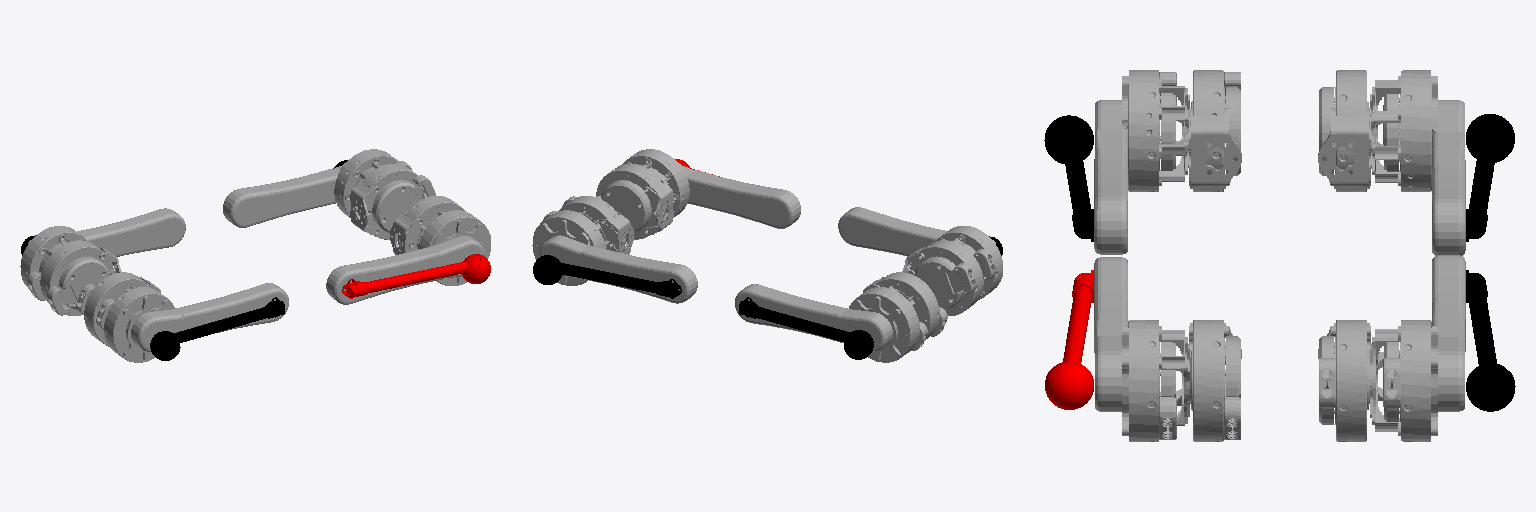
URDF robot description (bare_metal_xacro):
<?xml version="1.0" ?>
<!-- =================================================================================== -->
<!-- |    This document was autogenerated by xacro from bare_metal.xacro               | -->
<!-- |    EDITING THIS FILE BY HAND IS NOT RECOMMENDED                                 | -->
<!-- =================================================================================== -->
<robot name="bare_metal_xacro">
  <mujoco>
    <compiler balanceinertia="false" discardvisual="false" meshdir="./../../hb40_commons/urdf/meshes/"/>
  </mujoco>
  <material name="silver">
    <color rgba="0.700 0.700 0.700 1.000"/>
  </material>
  <material name="black">
    <color rgba="0 0 0 1.000"/>
  </material>
  <material name="red">
    <color rgba="1.0 0 0 1.000"/>
  </material>
  <!--
  LEG 1 LEFT FRONT(LF)      LEG 0 RIGHT FRONT (RF)

                    front
              \    /O____O\    /
               \  /|      |\  /
                \/ |      | \/
                   |      |
               \   |      |   /
                \  /O~~~~O\  /
                 \/  back  \/
  LEG 2 LEFT READ (LR)      LEG 3 RIGHT READ (RR)
  -->
  <!--
  ##########################################################
  ###########                               ################
  ###########          XACRO LINKS          ################
  ###########                               ################
  ##########################################################
  -->
  <!-- 
  ###########        XACRO LEG LINKS        ################
  -->
  <!--
  ##########################################################
  ###########                               ################
  ###########         XACRO JOINTS          ################
  ###########                               ################
  ##########################################################
  -->
  <!-- 
  ###########       XACRO LEG JOINTS        ################
  -->
  <!-- NOTE: If any translation rotaion of joints is changed here,
  It must be also changed in robot_state_publisher.cpp -->
  <!--
  ##########################################################
  ###########             BODY              ################
  ##########################################################
  -->
  <link name="base_link">
  </link>
  <link name="base">
    <inertial>
      <origin rpy="0 0 0" xyz="0 0 -0.0078"/>
      <mass value="4.695"/>
      <inertia ixx="0.0159" ixy="0" ixz="0" iyy="0.07546" iyz="0" izz="0.08249"/>
    </inertial>
    <visual>
      <origin rpy="0 0 0" xyz="0 0 0"/>
      <geometry>
        <mesh filename="package://hb40_commons/meshes/Base.stl" scale="0.001 0.001 0.001"/>
      </geometry>
      <material name="silver"/>
    </visual>
    <collision>
      <origin rpy="0 0 0" xyz="0 0 0"/>
      <geometry>
        <mesh filename="package://hb40_commons/meshes/Base.stl" scale="0.001 0.001 0.001"/>
      </geometry>
      <material name="silver"/>
    </collision>
  </link>
  <joint name="root_j0" type="fixed">
    <parent link="base_link"/>
    <child link="base"/>
    <origin rpy="0 0 0" xyz="0 0 0"/>
    <axis xyz="0 0 0"/>
  </joint>
  <!--
  ##########################################################
  ###########         LEGS LINKS 0-4        ################
  ##########################################################
  -->
  <link name="fr_l0">
    <inertial>
      <origin rpy="0 0 0" xyz="0.0506 -0.0067 -0.000192"/>
      <mass value="0.499"/>
      <inertia ixx="0.0003493" ixy="0" ixz="0" iyy="0.0006636" iyz="0" izz="0.000404"/>
    </inertial>
    <visual>
      <origin rpy="3.14159 0 0" xyz="0 0 0"/>
      <geometry>
        <mesh filename="package://hb40_commons/meshes/L0.stl" scale="0.001 0.001 0.001"/>
      </geometry>
      <material name="silver"/>
    </visual>
  </link>
  <link name="fr_l1">
    <inertial>
      <origin rpy="0 0 0" xyz="0.0442 0.0321 0.0013"/>
      <mass value="0.779"/>
      <inertia ixx="0.003755" ixy="0" ixz="0" iyy="0.0006211" iyz="0" izz="0.003607"/>
    </inertial>
    <visual>
      <origin rpy="0 0 0" xyz="0 0 0"/>
      <geometry>
        <mesh filename="package://hb40_commons/meshes/L1.stl" scale="0.001 0.001 0.001"/>
      </geometry>
      <material name="silver"/>
    </visual>
  </link>
  <link name="fr_l2">
    <inertial>
      <origin rpy="0 0 0" xyz="0.0183 0.1348 0.0005"/>
      <mass value="0.060"/>
      <inertia ixx="0.000277" ixy="0" ixz="0" iyy="0.0000885" iyz="0" izz="0.0002787"/>
    </inertial>
    <visual>
      <origin rpy="0 0 0" xyz="0 0 0"/>
      <geometry>
        <mesh filename="package://hb40_commons/meshes/L2.stl" scale="0.001 0.001 0.001"/>
      </geometry>
      <material name="red"/>
    </visual>
    <collision>
      <origin rpy="0 0 0" xyz="0 0 0"/>
      <geometry>
        <mesh filename="package://hb40_commons/meshes/L2.stl" scale="0.001 0.001 0.001"/>
      </geometry>
      <material name="red"/>
    </collision>
  </link>
  <link name="fl_l0">
    <inertial>
      <origin rpy="0 0 0" xyz="0.0506 -0.0067 -0.000192"/>
      <mass value="0.499"/>
      <inertia ixx="0.0003493" ixy="0" ixz="0" iyy="0.0006636" iyz="0" izz="0.000404"/>
    </inertial>
    <visual>
      <origin rpy="3.14159 0 0" xyz="0 0 0"/>
      <geometry>
        <mesh filename="package://hb40_commons/meshes/L0.stl" scale="0.001 0.001 0.001"/>
      </geometry>
      <material name="silver"/>
    </visual>
  </link>
  <link name="fl_l1">
    <inertial>
      <origin rpy="0 0 0" xyz="0.0442 0.0321 0.0013"/>
      <mass value="0.779"/>
      <inertia ixx="0.003755" ixy="0" ixz="0" iyy="0.0006211" iyz="0" izz="0.003607"/>
    </inertial>
    <visual>
      <origin rpy="0 0 0" xyz="0 0 0"/>
      <geometry>
        <mesh filename="package://hb40_commons/meshes/L1.stl" scale="0.001 0.001 0.001"/>
      </geometry>
      <material name="silver"/>
    </visual>
  </link>
  <link name="fl_l2">
    <inertial>
      <origin rpy="0 0 0" xyz="0.0183 0.1348 0.0005"/>
      <mass value="0.060"/>
      <inertia ixx="0.000277" ixy="0" ixz="0" iyy="0.0000885" iyz="0" izz="0.0002787"/>
    </inertial>
    <visual>
      <origin rpy="0 0 0" xyz="0 0 0"/>
      <geometry>
        <mesh filename="package://hb40_commons/meshes/L2b.stl" scale="0.001 0.001 0.001"/>
      </geometry>
      <material name="black"/>
    </visual>
    <collision>
      <origin rpy="0 0 0" xyz="0 0 0"/>
      <geometry>
        <mesh filename="package://hb40_commons/meshes/L2b.stl" scale="0.001 0.001 0.001"/>
      </geometry>
      <material name="black"/>
    </collision>
  </link>
  <link name="rl_l0">
    <inertial>
      <origin rpy="0 0 0" xyz="0.0506 -0.0067 -0.000192"/>
      <mass value="0.499"/>
      <inertia ixx="0.0003493" ixy="0" ixz="0" iyy="0.0006636" iyz="0" izz="0.000404"/>
    </inertial>
    <visual>
      <origin rpy="3.14159 0 0" xyz="0 0 0"/>
      <geometry>
        <mesh filename="package://hb40_commons/meshes/L0.stl" scale="0.001 0.001 0.001"/>
      </geometry>
      <material name="silver"/>
    </visual>
  </link>
  <link name="rl_l1">
    <inertial>
      <origin rpy="0 0 0" xyz="0.0442 0.0321 0.0013"/>
      <mass value="0.779"/>
      <inertia ixx="0.003755" ixy="0" ixz="0" iyy="0.0006211" iyz="0" izz="0.003607"/>
    </inertial>
    <visual>
      <origin rpy="0 0 0" xyz="0 0 0"/>
      <geometry>
        <mesh filename="package://hb40_commons/meshes/L1.stl" scale="0.001 0.001 0.001"/>
      </geometry>
      <material name="silver"/>
    </visual>
  </link>
  <link name="rl_l2">
    <inertial>
      <origin rpy="0 0 0" xyz="0.0183 0.1348 0.0005"/>
      <mass value="0.060"/>
      <inertia ixx="0.000277" ixy="0" ixz="0" iyy="0.0000885" iyz="0" izz="0.0002787"/>
    </inertial>
    <visual>
      <origin rpy="0 0 0" xyz="0 0 0"/>
      <geometry>
        <mesh filename="package://hb40_commons/meshes/L2.stl" scale="0.001 0.001 0.001"/>
      </geometry>
      <material name="black"/>
    </visual>
    <collision>
      <origin rpy="0 0 0" xyz="0 0 0"/>
      <geometry>
        <mesh filename="package://hb40_commons/meshes/L2.stl" scale="0.001 0.001 0.001"/>
      </geometry>
      <material name="black"/>
    </collision>
  </link>
  <link name="rr_l0">
    <inertial>
      <origin rpy="0 0 0" xyz="0.0506 -0.0067 -0.000192"/>
      <mass value="0.499"/>
      <inertia ixx="0.0003493" ixy="0" ixz="0" iyy="0.0006636" iyz="0" izz="0.000404"/>
    </inertial>
    <visual>
      <origin rpy="3.14159 0 0" xyz="0 0 0"/>
      <geometry>
        <mesh filename="package://hb40_commons/meshes/L0.stl" scale="0.001 0.001 0.001"/>
      </geometry>
      <material name="silver"/>
    </visual>
  </link>
  <link name="rr_l1">
    <inertial>
      <origin rpy="0 0 0" xyz="0.0442 0.0321 0.0013"/>
      <mass value="0.779"/>
      <inertia ixx="0.003755" ixy="0" ixz="0" iyy="0.0006211" iyz="0" izz="0.003607"/>
    </inertial>
    <visual>
      <origin rpy="0 0 0" xyz="0 0 0"/>
      <geometry>
        <mesh filename="package://hb40_commons/meshes/L1.stl" scale="0.001 0.001 0.001"/>
      </geometry>
      <material name="silver"/>
    </visual>
  </link>
  <link name="rr_l2">
    <inertial>
      <origin rpy="0 0 0" xyz="0.0183 0.1348 0.0005"/>
      <mass value="0.060"/>
      <inertia ixx="0.000277" ixy="0" ixz="0" iyy="0.0000885" iyz="0" izz="0.0002787"/>
    </inertial>
    <visual>
      <origin rpy="0 0 0" xyz="0 0 0"/>
      <geometry>
        <mesh filename="package://hb40_commons/meshes/L2b.stl" scale="0.001 0.001 0.001"/>
      </geometry>
      <material name="black"/>
    </visual>
    <collision>
      <origin rpy="0 0 0" xyz="0 0 0"/>
      <geometry>
        <mesh filename="package://hb40_commons/meshes/L2b.stl" scale="0.001 0.001 0.001"/>
      </geometry>
      <material name="black"/>
    </collision>
  </link>
  <!--
  ##########################################################
  ###########                               ################
  ###########             JOINTS             ###############
  ###########                               ################
  ##########################################################
  -->
  <!--
  ##########################################################
  ###########        LEGS JOINTS 0-4        ################
  ##########################################################
  -->
  <joint armature="0.01" name="fr_j0" type="continuous">
    <parent link="base"/>
    <child link="fr_l0"/>
    <origin rpy="0 0 0" xyz="0.185 -0.05 0"/>
    <axis xyz="1.0 0 0"/>
    <limit effort="10.0" lower="-10" upper="10.0" velocity="25.0"/>
  </joint>
  <joint name="fr_j1" type="continuous">
    <parent link="fr_l0"/>
    <child link="fr_l1"/>
    <origin rpy="3.14159 0 -1.57" xyz="0.0525 -0.0222 0"/>
    <!-- TODO: xyz to verification -->
    <axis xyz="1.0 0 0"/>
    <limit effort="10.0" lower="-10" upper="10.0" velocity="25.0"/>
  </joint>
  <joint name="fr_j2" type="continuous">
    <parent link="fr_l1"/>
    <child link="fr_l2"/>
    <origin rpy="3.14159 0 0" xyz="0.0757 0.18 0"/>
    <!--TODO: xyz to verification -->
    <axis xyz="1.0 0 0"/>
    <limit effort="10.0" lower="-10" upper="10.0" velocity="25.0"/>
  </joint>
  <joint armature="0.01" name="fl_j0" type="continuous">
    <parent link="base"/>
    <child link="fl_l0"/>
    <origin rpy="3.14159 0 0" xyz="0.185 0.05 0"/>
    <axis xyz="1.0 0 0"/>
    <limit effort="10.0" lower="-10" upper="10.0" velocity="25.0"/>
  </joint>
  <joint name="fl_j1" type="continuous">
    <parent link="fl_l0"/>
    <child link="fl_l1"/>
    <origin rpy="3.14159 0 -1.57" xyz="0.0525 -0.0222 0"/>
    <!-- TODO: xyz to verification -->
    <axis xyz="1.0 0 0"/>
    <limit effort="10.0" lower="-10" upper="10.0" velocity="25.0"/>
  </joint>
  <joint name="fl_j2" type="continuous">
    <parent link="fl_l1"/>
    <child link="fl_l2"/>
    <origin rpy="3.14159 0 0" xyz="0.0757 0.18 0"/>
    <!--TODO: xyz to verification -->
    <axis xyz="1.0 0 0"/>
    <limit effort="10.0" lower="-10" upper="10.0" velocity="25.0"/>
  </joint>
  <joint armature="0.01" name="rl_j0" type="continuous">
    <parent link="base"/>
    <child link="rl_l0"/>
    <origin rpy="3.14159 3.14159 0" xyz="-0.185 0.05 0"/>
    <axis xyz="1.0 0 0"/>
    <limit effort="10.0" lower="-10" upper="10.0" velocity="25.0"/>
  </joint>
  <joint name="rl_j1" type="continuous">
    <parent link="rl_l0"/>
    <child link="rl_l1"/>
    <origin rpy="3.14159 0 -1.57" xyz="0.0525 -0.0222 0"/>
    <!-- TODO: xyz to verification -->
    <axis xyz="1.0 0 0"/>
    <limit effort="10.0" lower="-10" upper="10.0" velocity="25.0"/>
  </joint>
  <joint name="rl_j2" type="continuous">
    <parent link="rl_l1"/>
    <child link="rl_l2"/>
    <origin rpy="3.14159 0 0" xyz="0.0757 0.18 0"/>
    <!--TODO: xyz to verification -->
    <axis xyz="1.0 0 0"/>
    <limit effort="10.0" lower="-10" upper="10.0" velocity="25.0"/>
  </joint>
  <joint armature="0.01" name="rr_j0" type="continuous">
    <parent link="base"/>
    <child link="rr_l0"/>
    <origin rpy="0 3.14159 0" xyz="-0.185 -0.05 0"/>
    <axis xyz="1.0 0 0"/>
    <limit effort="10.0" lower="-10" upper="10.0" velocity="25.0"/>
  </joint>
  <joint name="rr_j1" type="continuous">
    <parent link="rr_l0"/>
    <child link="rr_l1"/>
    <origin rpy="3.14159 0 -1.57" xyz="0.0525 -0.0222 0"/>
    <!-- TODO: xyz to verification -->
    <axis xyz="1.0 0 0"/>
    <limit effort="10.0" lower="-10" upper="10.0" velocity="25.0"/>
  </joint>
  <joint name="rr_j2" type="continuous">
    <parent link="rr_l1"/>
    <child link="rr_l2"/>
    <origin rpy="3.14159 0 0" xyz="0.0757 0.18 0"/>
    <!--TODO: xyz to verification -->
    <axis xyz="1.0 0 0"/>
    <limit effort="10.0" lower="-10" upper="10.0" velocity="25.0"/>
  </joint>
</robot>

--- Facts derived from the render (not from the file) ---
Views: 3 orthographic renders of the robot side by side, from view 1: azimuth 30°, elevation 25°; view 2: azimuth 150°, elevation 25°; view 3: azimuth 270°, elevation 25°.
Robot: bare_metal_xacro — 14 links, 13 joints (12 continuous, 1 fixed); root link base_link; default pose: all joints at 0.
Visible links, largest first — view 1: rr_l1, fr_l1, fl_l1, rl_l1, fl_l0, rl_l0, fr_l2, rr_l2, rr_l0, fr_l0; view 2: rl_l1, fl_l1, fr_l1, rr_l1, rr_l0, fr_l0, fl_l2, rl_l2, rl_l0, fl_l0; view 3: fl_l1, fr_l1, rr_l1, rl_l1, rr_l0, fr_l0, rl_l0, fl_l0, fl_l2, fr_l2, rl_l2, rr_l2.
Link boxes in pixels (x1,y1,x2,y2): rr_l1: (96,283,288,362); fr_l1: (326,210,490,304); fl_l1: (223,149,411,227); rl_l1: (20,208,185,300); fl_l0: (350,164,435,239); rl_l0: (40,240,121,315); fr_l2: (342,254,490,298); rr_l2: (150,297,284,360); rr_l0: (76,272,160,346); fr_l0: (390,196,465,254); rl_l1: (735,284,927,362); fl_l1: (532,210,697,303); fr_l1: (622,149,800,228); rr_l1: (838,207,1002,299); rr_l0: (902,240,983,315); fr_l0: (596,164,673,239); fl_l2: (533,255,681,298); rl_l2: (739,297,873,359); rl_l0: (863,272,947,339); fl_l0: (558,196,633,254); fl_l1: (1370,255,1465,441); fr_l1: (1094,257,1189,441); rr_l1: (1094,70,1189,254); rl_l1: (1370,70,1465,255); rr_l0: (1189,70,1241,191); fr_l0: (1189,320,1241,441); rl_l0: (1318,70,1370,191); fl_l0: (1318,320,1370,441); fl_l2: (1466,270,1515,411); fr_l2: (1045,270,1093,409); rl_l2: (1466,114,1514,241); rr_l2: (1044,115,1093,241).
Size in the robot's own frame: 0.5815 by 0.379 by 0.098 metres.
12 mesh visuals loaded from 5 distinct referenced files (4 binary STL); not drawn: 1 (reference not matched to a file when rendering).
